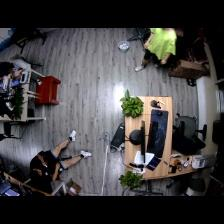normal: (28, 129, 92, 183), (137, 26, 176, 73), (2, 56, 34, 76)
